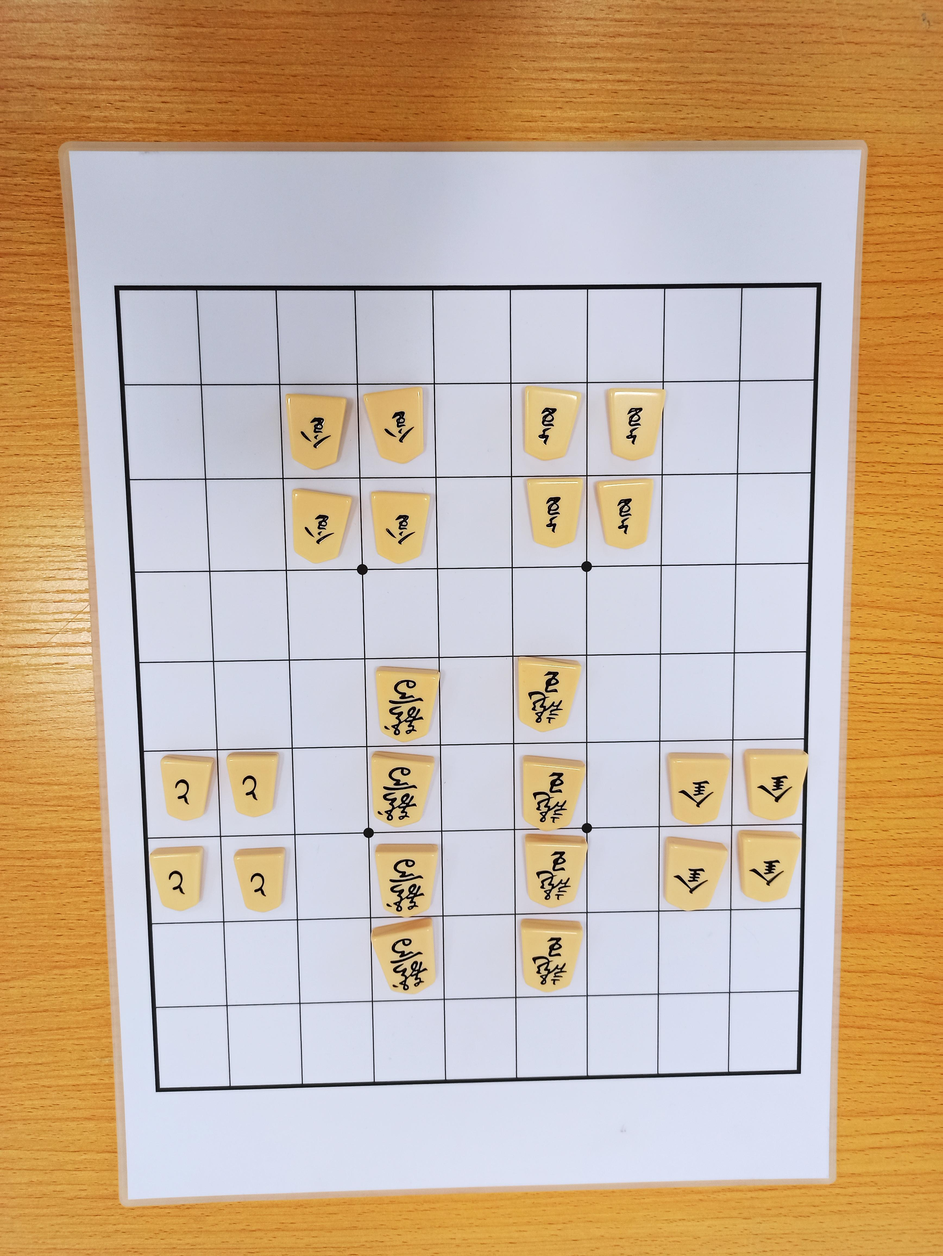board: (116, 286, 821, 1090)
